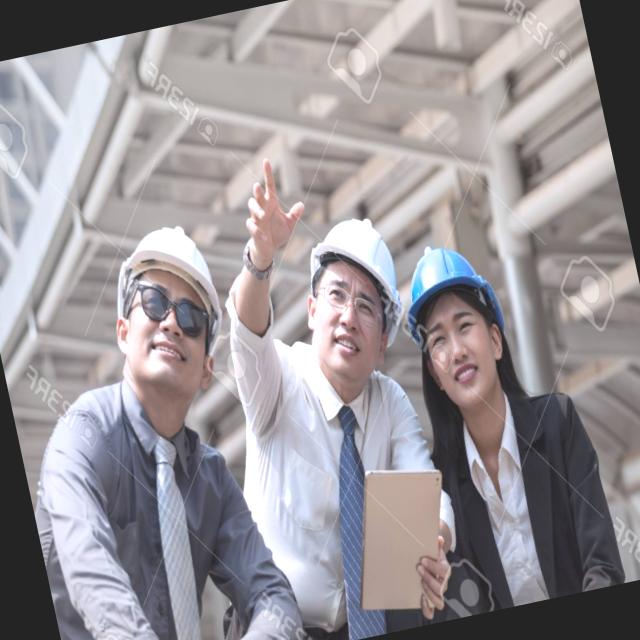helmet: (287, 194, 419, 368), (91, 186, 228, 321), (388, 224, 504, 336)
no-goggles: (126, 266, 214, 370), (411, 299, 497, 365), (318, 271, 388, 336)
no-vest: (239, 327, 435, 640), (48, 376, 266, 640), (431, 388, 590, 614)
